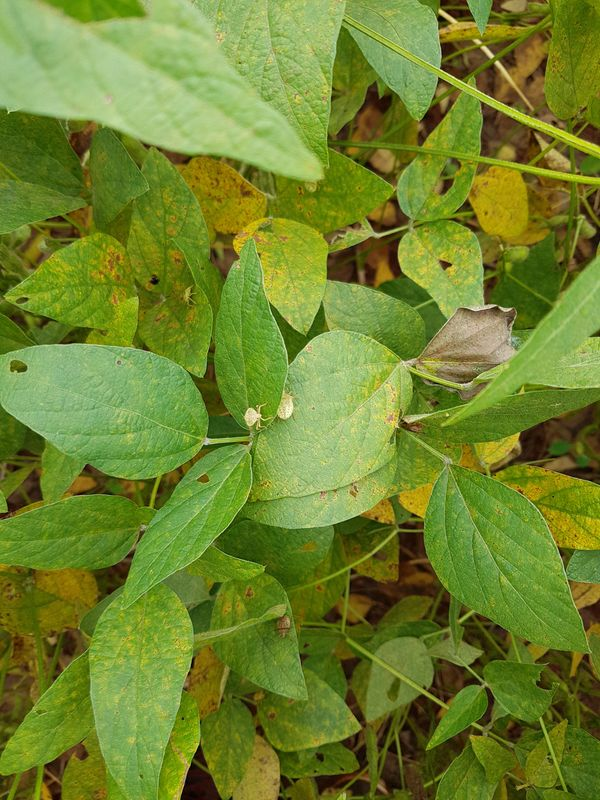Euschistus_heros_ninfa: (236, 398, 275, 436), (272, 386, 301, 425), (268, 610, 300, 642)
